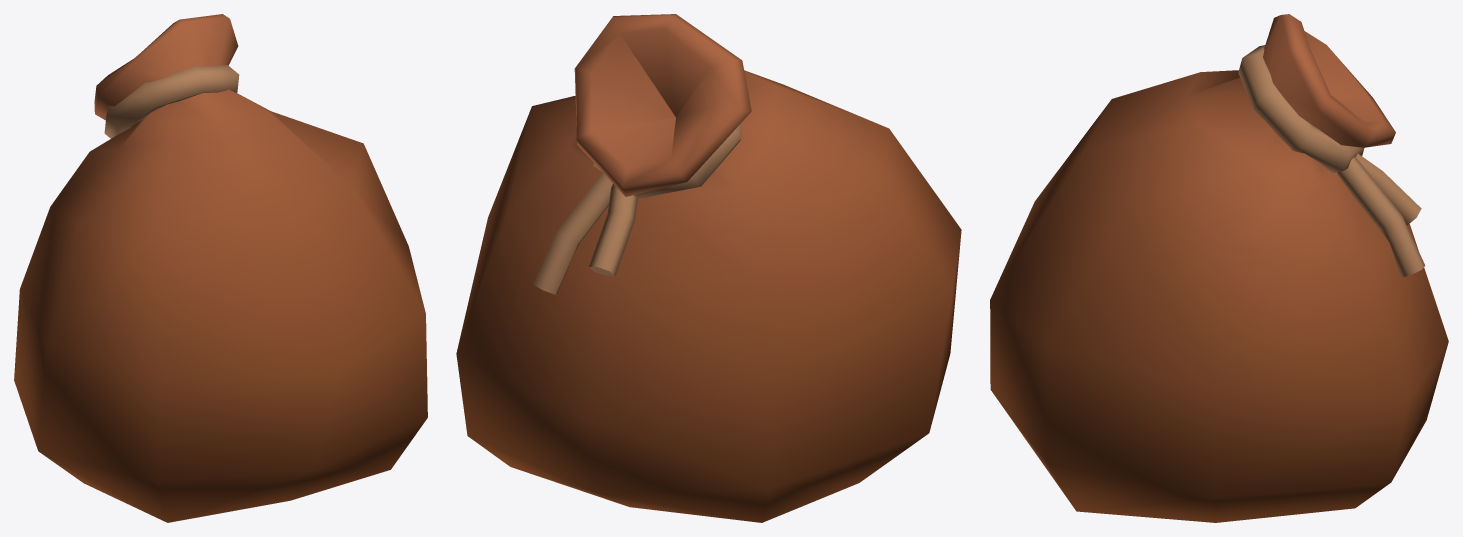
Rendered from Pouch2.fbx.
3 renders of one model, left to right at view 1: azimuth 30°, elevation 25°; view 2: azimuth 150°, elevation 25°; view 3: azimuth 270°, elevation 25°, orthographic. The views are drawn at different scales.
Parts seen in each view (by area): view 1: Pouch2; view 2: Pouch2; view 3: Pouch2.
Part boxes in pixels (x1,y1,x2,y2): Pouch2: (14, 14, 427, 522); Pouch2: (456, 14, 961, 522); Pouch2: (990, 14, 1448, 522).
Size of the model in its own units: 16.81 by 16.95 by 16.01.
